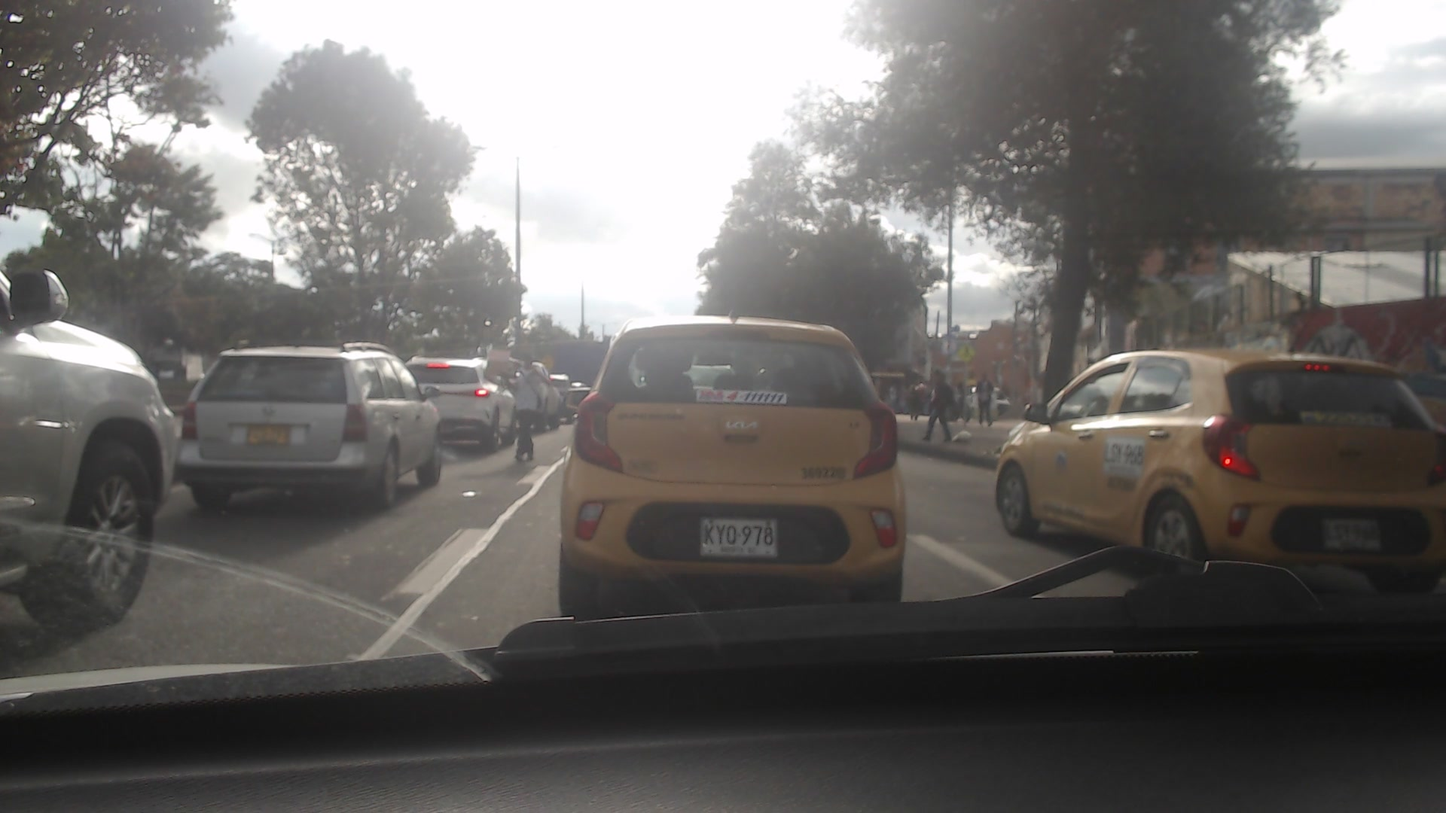car: (998, 342, 1445, 601), (553, 315, 916, 606), (178, 339, 458, 503), (401, 353, 517, 458)
person: (509, 352, 542, 461), (922, 365, 956, 449), (972, 369, 992, 427)
